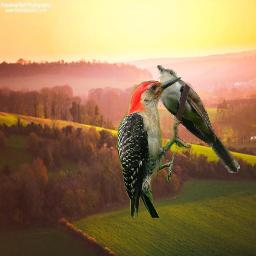Cuckoo: (157, 65, 240, 173)
Woodpecker: (117, 77, 192, 218)
